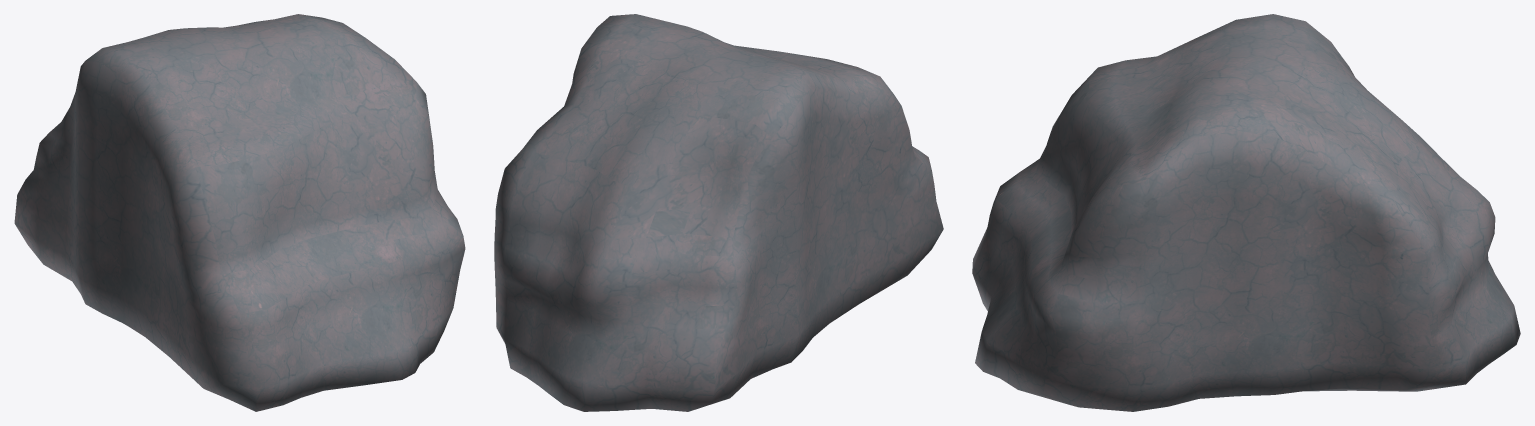
File: Rock_3.fbx
3 views of the same model, side by side, from view 1: azimuth 30°, elevation 25°; view 2: azimuth 150°, elevation 25°; view 3: azimuth 270°, elevation 25° (orthographic). The views are drawn at different scales.
Visible parts, largest first — view 1: Rock_3; view 2: Rock_3; view 3: Rock_3.
Part boxes in pixels (bbox=[...]): Rock_3: bbox=[14, 14, 465, 411]; Rock_3: bbox=[494, 14, 943, 411]; Rock_3: bbox=[972, 14, 1520, 411].
Bounding box in the file's own units: 24.6 × 22.6 × 39.49.
